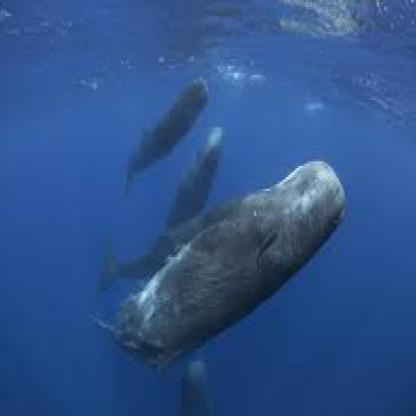sperm_whale: (91, 161, 360, 348)
